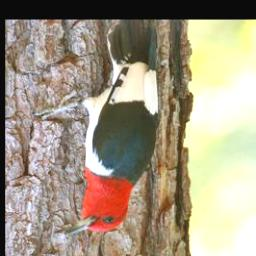Woodpecker: (33, 22, 161, 236)
